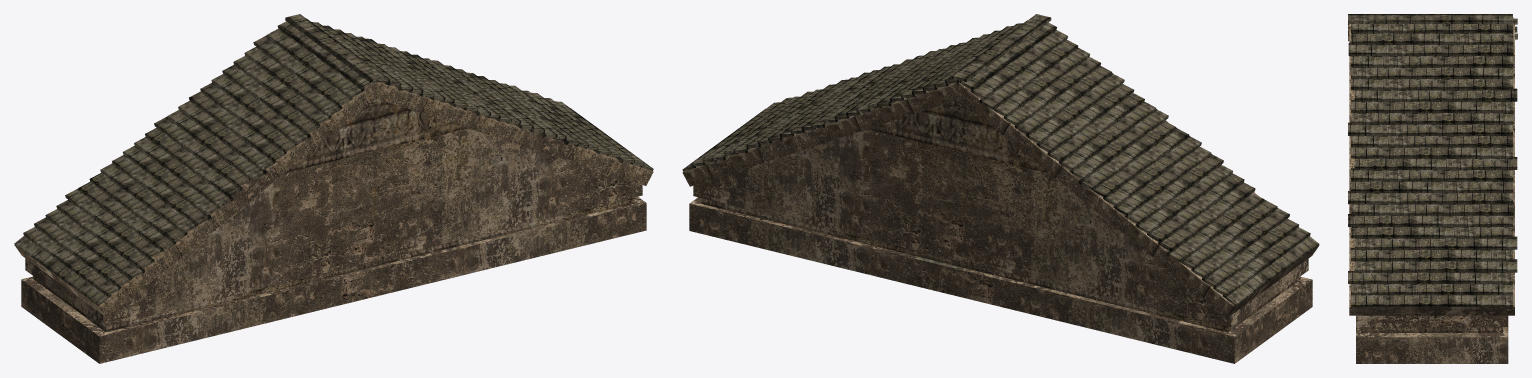
Rendered from materials_5_roof_10.fbx.
The picture shows the model from 3 angles, left to right: view 1: azimuth 30°, elevation 25°; view 2: azimuth 150°, elevation 25°; view 3: azimuth 270°, elevation 25°; orthographic projection. The views are drawn at different scales.
Parts seen in each view (by area): view 1: materials_5_roof_10; view 2: materials_5_roof_10; view 3: materials_5_roof_10.
Part boxes in pixels (box(x1,y1,x2,y2)): materials_5_roof_10: box(14, 14, 653, 363); materials_5_roof_10: box(682, 14, 1319, 363); materials_5_roof_10: box(1348, 14, 1517, 363).
Size of the model in its own units: 619 by 236 by 168.
